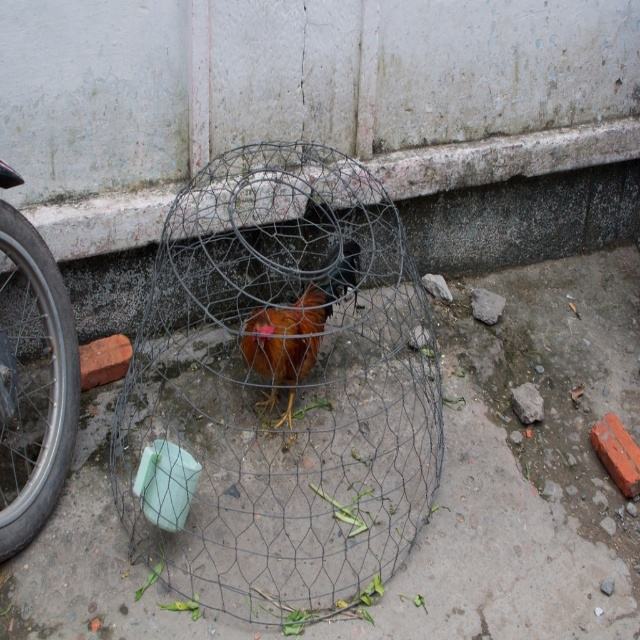Chicken: (241, 242, 360, 429)
